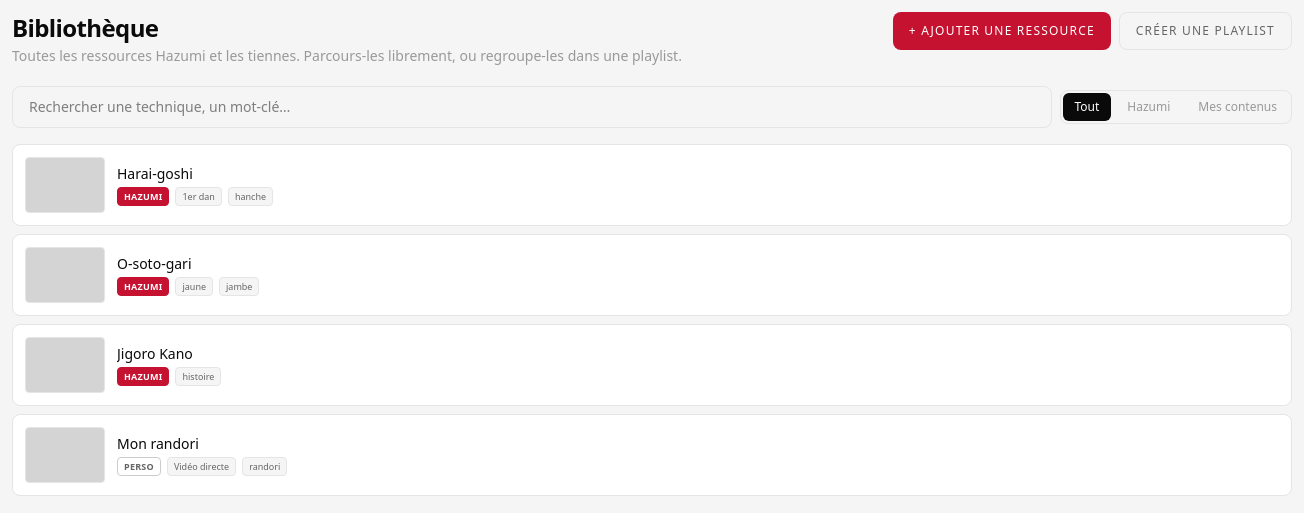
Scenario: Bibliothèque — liste des ressources › permet de filtrer par origine
Expected: the heading "Harai-goshi" is shown, [117,164,193,183]
Click the button "Mes contenus": [1238, 107] box [1186,93,1289,121]
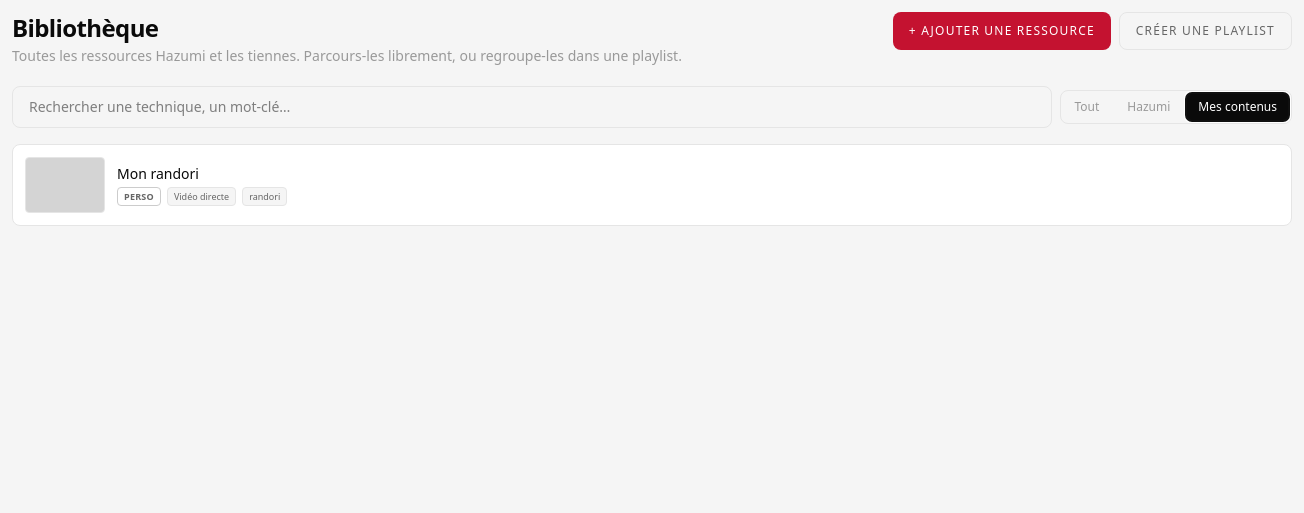
Expected: the heading "Mon randori" is shown, [117,164,199,183]
Now the button "Harai-goshi" is gone
